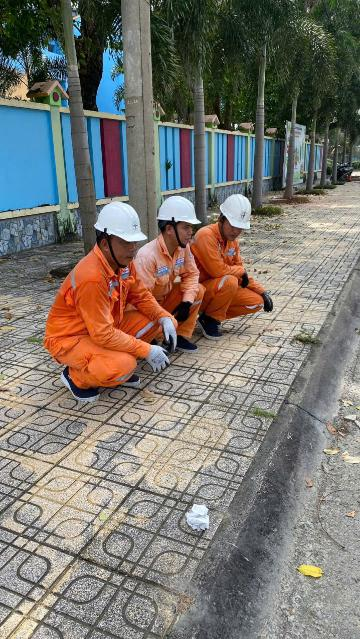gloves: (140, 339, 174, 381), (252, 285, 281, 317), (155, 314, 181, 346), (171, 298, 198, 321), (236, 269, 254, 290)
helmet: (78, 194, 151, 255), (153, 190, 203, 232), (211, 192, 262, 232)
shoes: (54, 364, 109, 410), (189, 313, 233, 345), (102, 364, 145, 394), (155, 332, 197, 356)
